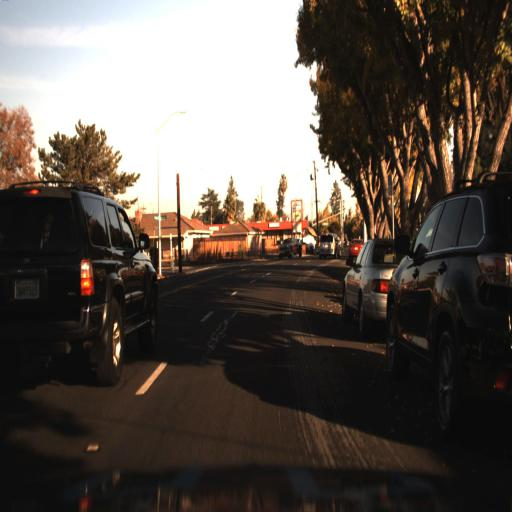car: (384, 179, 512, 445), (0, 181, 157, 386), (338, 234, 401, 334), (315, 231, 345, 260), (275, 230, 302, 261)
